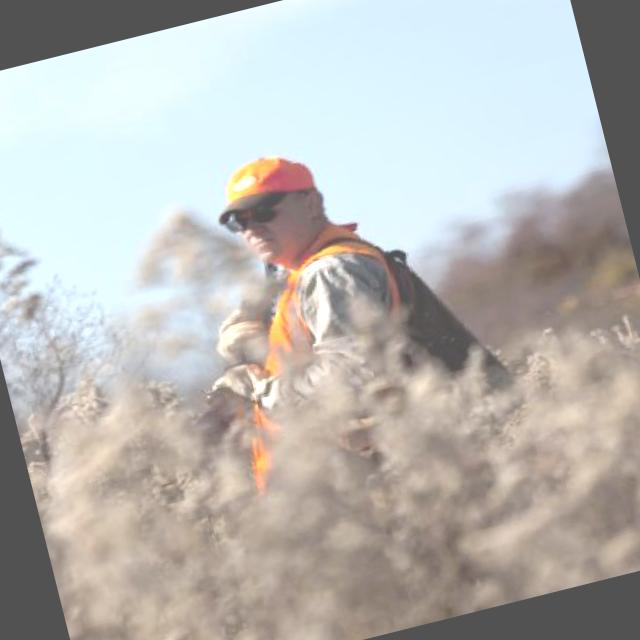Person: (164, 121, 497, 508)
